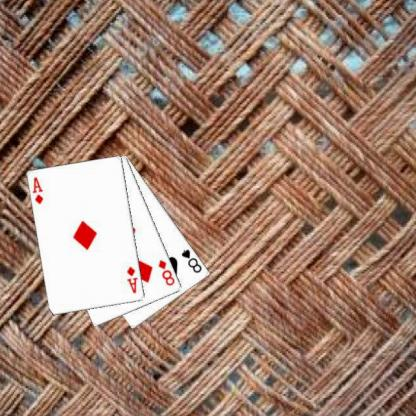8D: (156, 257, 176, 287)
8S: (179, 246, 203, 274)
AD: (30, 174, 45, 206), (124, 264, 139, 295)
